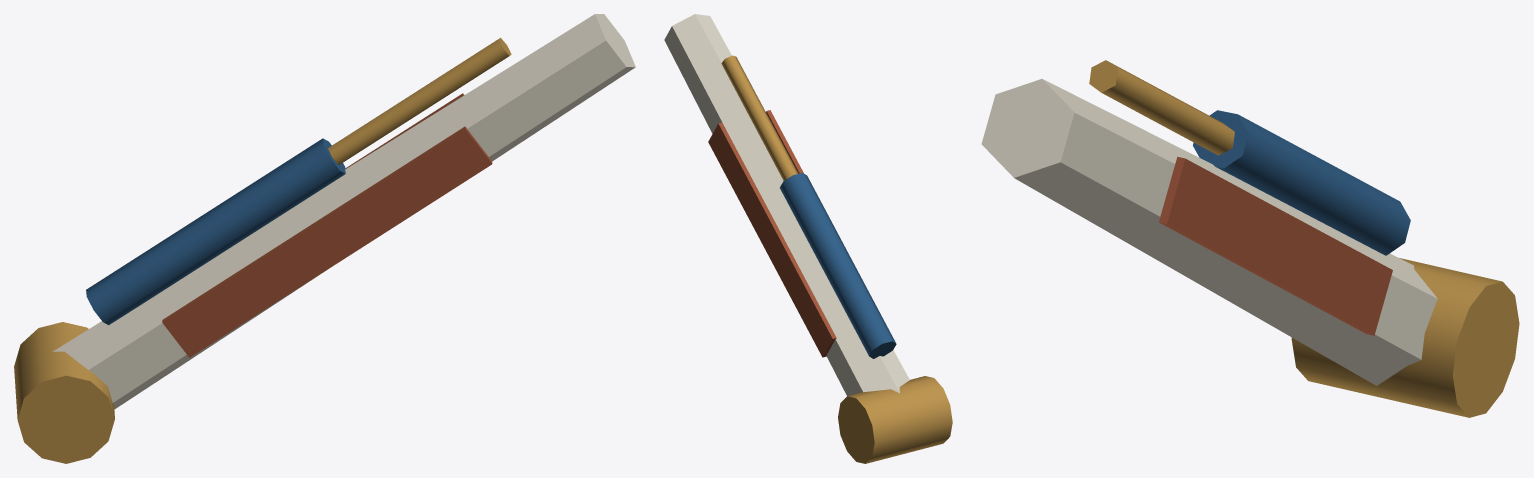
The model's file is rm2_leg_fl_femur.obj.
3 renders of one model, left to right at view 1: azimuth 30°, elevation 25°; view 2: azimuth 150°, elevation 25°; view 3: azimuth 270°, elevation 25°, orthographic. The views are drawn at different scales.
Visible parts, largest first — view 1: rm2_leg_fl_femur; view 2: rm2_leg_fl_femur; view 3: rm2_leg_fl_femur.
Part boxes in pixels (bbox=[...]): rm2_leg_fl_femur: bbox=[14, 14, 635, 463]; rm2_leg_fl_femur: bbox=[664, 14, 952, 463]; rm2_leg_fl_femur: bbox=[981, 60, 1519, 417].
Bounding box in the file's own units: 0.549 × 0.434 × 0.3524.
